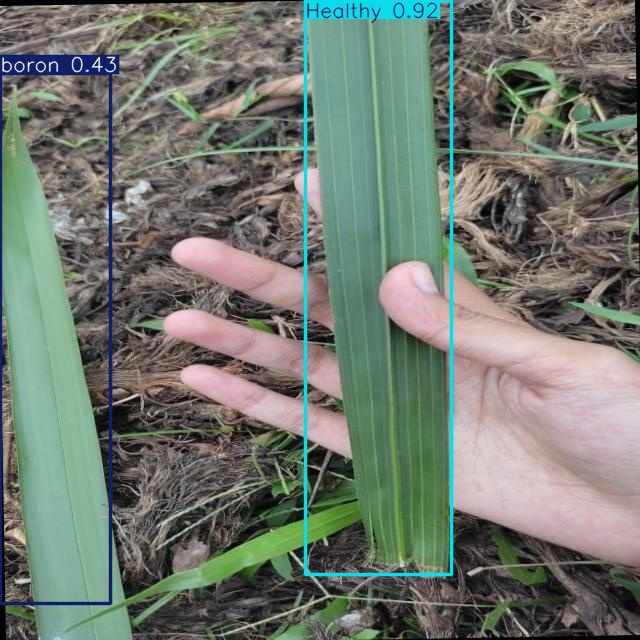Healthy: (305, 0, 452, 575)
nitrogen: (0, 74, 110, 604)
